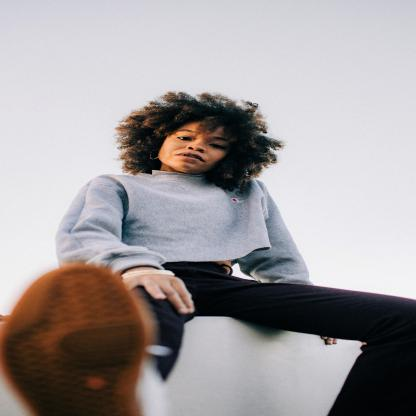Eye: (209, 143, 226, 150), (176, 135, 193, 141)
Mouth: (174, 152, 205, 162)
Nose: (185, 139, 207, 153)
